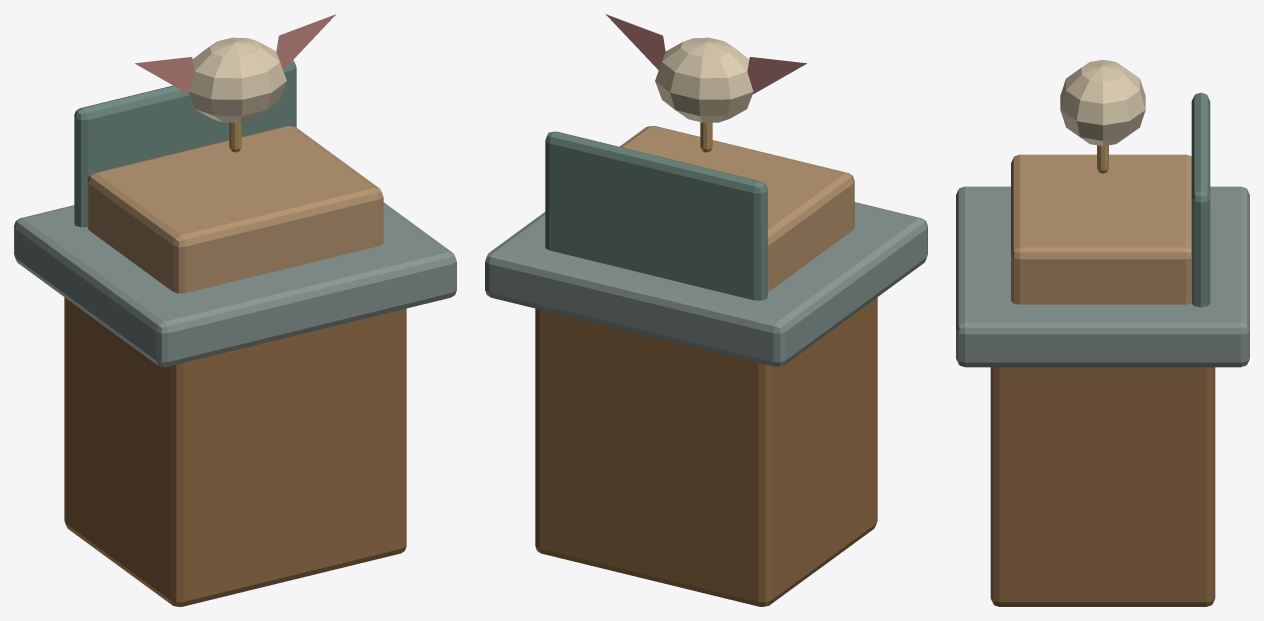
The model's file is music-box.glb.
3 renders of one model, left to right at view 1: azimuth 30°, elevation 25°; view 2: azimuth 150°, elevation 25°; view 3: azimuth 270°, elevation 25°, orthographic. The views are drawn at different scales.
Visible parts, largest first — view 1: music-box_Discovery_Mesh, discovery_Motion.014_Mesh; view 2: music-box_Discovery_Mesh, discovery_Motion.014_Mesh; view 3: music-box_Discovery_Mesh, discovery_Motion.014_Mesh.
Boxes of the visible parts, x1=… form: music-box_Discovery_Mesh: x1=14, y1=60, x2=456, y2=606; discovery_Motion.014_Mesh: x1=135, y1=14, x2=336, y2=152; music-box_Discovery_Mesh: x1=485, y1=126, x2=927, y2=606; discovery_Motion.014_Mesh: x1=605, y1=14, x2=806, y2=152; music-box_Discovery_Mesh: x1=956, y1=92, x2=1249, y2=606; discovery_Motion.014_Mesh: x1=1060, y1=60, x2=1145, y2=173.
Bounding box in the file's own units: 0.83 × 1.33 × 0.72.
